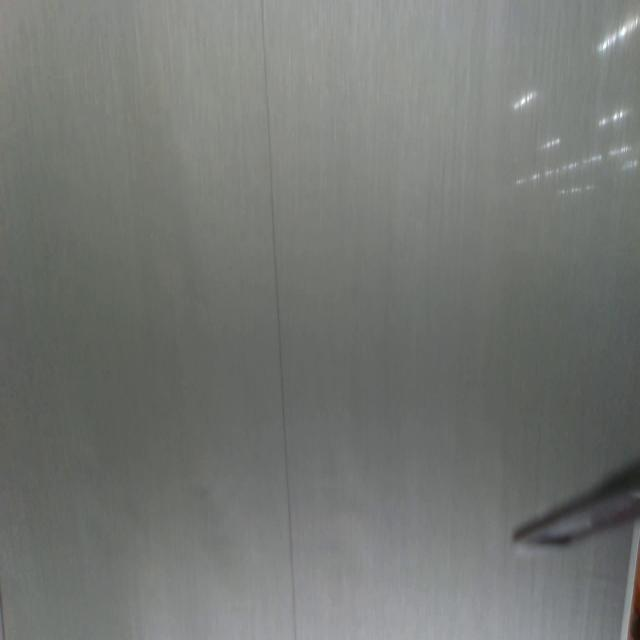crease: (261, 1, 299, 640)
